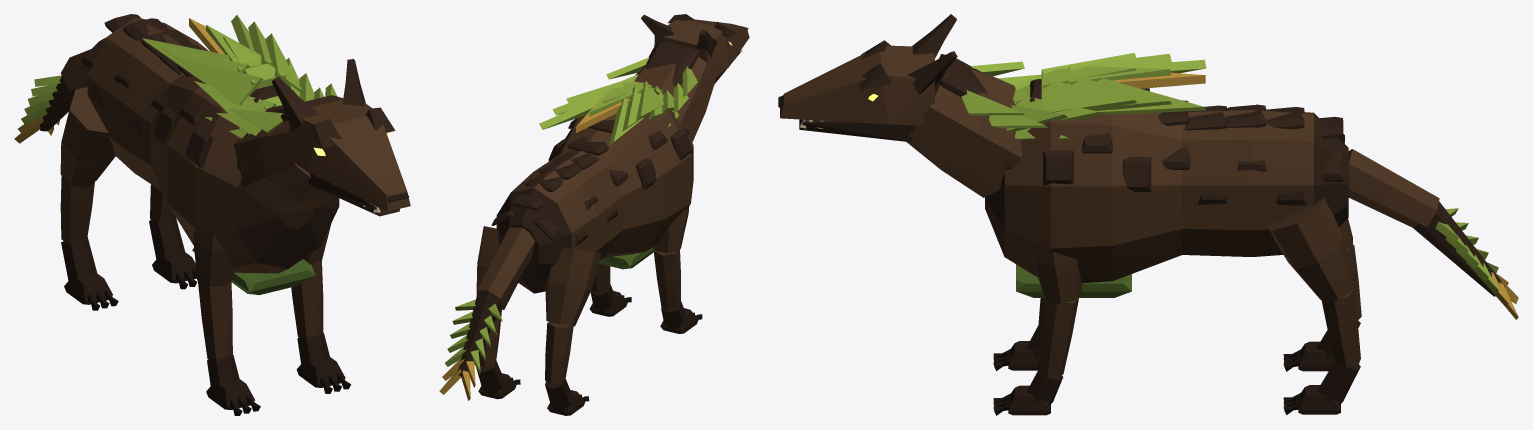
The model's file is hound.glb.
3 views of the same model, side by side, from view 1: azimuth 30°, elevation 25°; view 2: azimuth 150°, elevation 25°; view 3: azimuth 270°, elevation 25° (orthographic). The views are drawn at different scales.
Visible parts, largest first — view 1: body, head, neck, footFR, footBR, footFL, legBR, footBL, tail2, legFR, jaw, tail1; view 2: body, neck, head, tail2, legBR, footBR, tail1, footFR, footBL, footFL, legBL, legFR; view 3: body, neck, head, legBL, footBL, footFL, tail1, tail2, legFL, footBR, jaw, footFR.
Boxes of the visible parts, bbox=[...] form: body: bbox=[81, 14, 339, 294]; head: bbox=[271, 59, 410, 212]; neck: bbox=[205, 83, 343, 214]; footFR: bbox=[198, 280, 260, 415]; footBR: bbox=[60, 176, 118, 310]; footFL: bbox=[291, 260, 350, 393]; legBR: bbox=[60, 87, 115, 187]; footBL: bbox=[149, 184, 197, 289]; tail2: bbox=[14, 75, 75, 143]; legFR: bbox=[193, 229, 233, 286]; jaw: bbox=[308, 173, 399, 216]; tail1: bbox=[60, 49, 90, 90]; body: bbox=[491, 77, 693, 293]; neck: bbox=[606, 40, 716, 142]; head: bbox=[641, 14, 749, 76]; tail2: bbox=[439, 291, 502, 400]; legBR: bbox=[545, 247, 601, 326]; footBR: bbox=[545, 321, 589, 415]; tail1: bbox=[477, 227, 535, 306]; footFR: bbox=[653, 250, 702, 333]; footBL: bbox=[476, 309, 520, 399]; footFL: bbox=[589, 263, 631, 316]; legBL: bbox=[476, 226, 517, 309]; legFR: bbox=[653, 207, 688, 253]; body: bbox=[985, 53, 1348, 297]; neck: bbox=[907, 54, 1069, 197]; head: bbox=[778, 14, 957, 129]; legBL: bbox=[1267, 198, 1353, 303]; footBL: bbox=[1283, 287, 1360, 414]; footFL: bbox=[993, 297, 1079, 415]; tail1: bbox=[1348, 149, 1439, 227]; tail2: bbox=[1413, 201, 1518, 319]; legFL: bbox=[1031, 247, 1081, 303]; footBR: bbox=[1283, 244, 1361, 371]; jaw: bbox=[799, 119, 913, 142]; footFR: bbox=[993, 298, 1045, 370].
Size of the model in its own units: 0.4368 by 1.01 by 1.91.
